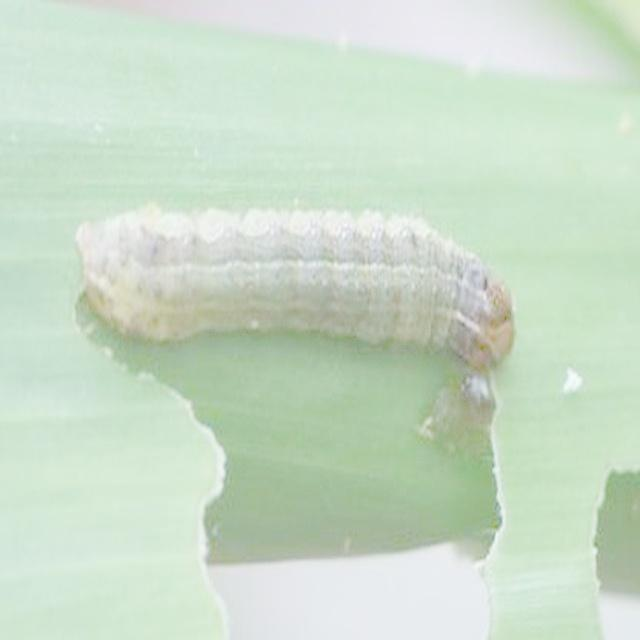gusano_cogollero: (82, 200, 515, 363)
